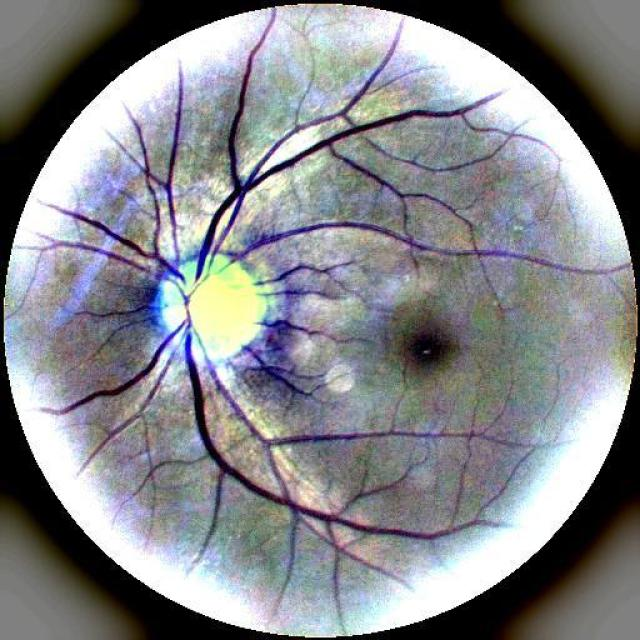Macula: (411, 332, 445, 361)
Nerves: (37, 16, 511, 548)
Optic Disk: (161, 254, 275, 362)
